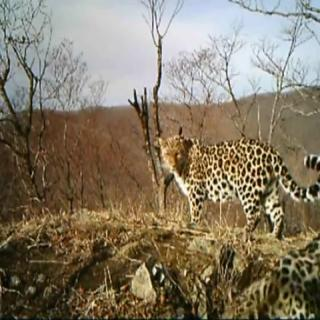Leopard: (156, 131, 320, 252)
